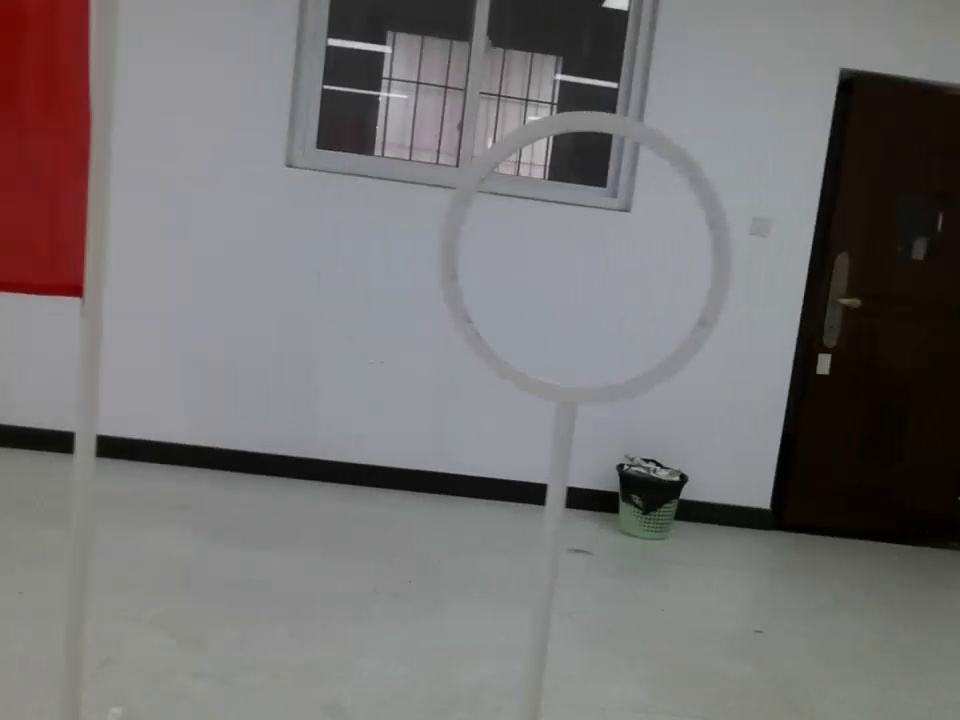qi: (2, 1, 114, 451)
quan: (435, 100, 737, 442)
